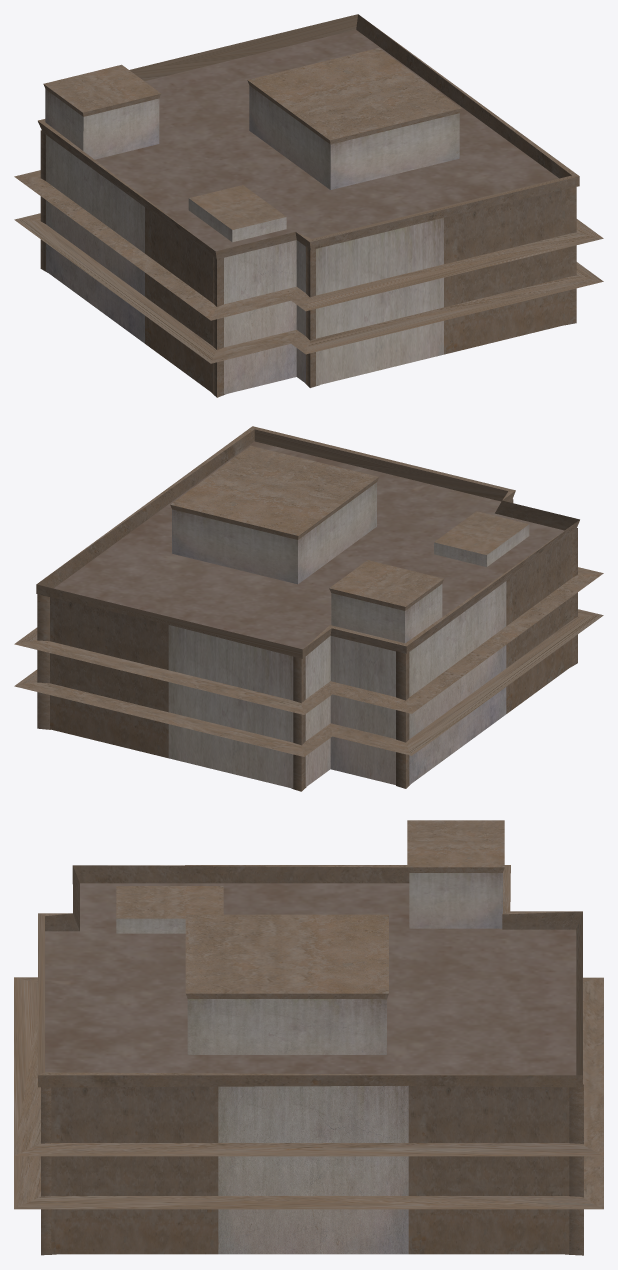
The model's file is ORB_5_Single_Detail_3.fbx.
3 views of the same model, one above another, from view 1: azimuth 30°, elevation 25°; view 2: azimuth 150°, elevation 25°; view 3: azimuth 270°, elevation 25° (orthographic). The views are drawn at different scales.
Parts seen in each view (by area): view 1: ORB_5_Single_Detail_3; view 2: ORB_5_Single_Detail_3; view 3: ORB_5_Single_Detail_3.
Part boxes in pixels (x1,y1,x2,y2): ORB_5_Single_Detail_3: [14, 14, 603, 397]; ORB_5_Single_Detail_3: [14, 426, 603, 791]; ORB_5_Single_Detail_3: [14, 820, 603, 1255].
Bounding box in the file's own units: 2441 × 1141 × 2676.
